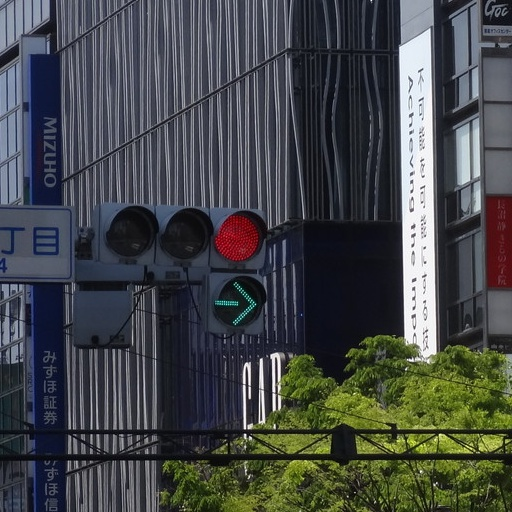Traffic_Signal_Red: (102, 200, 264, 272)
